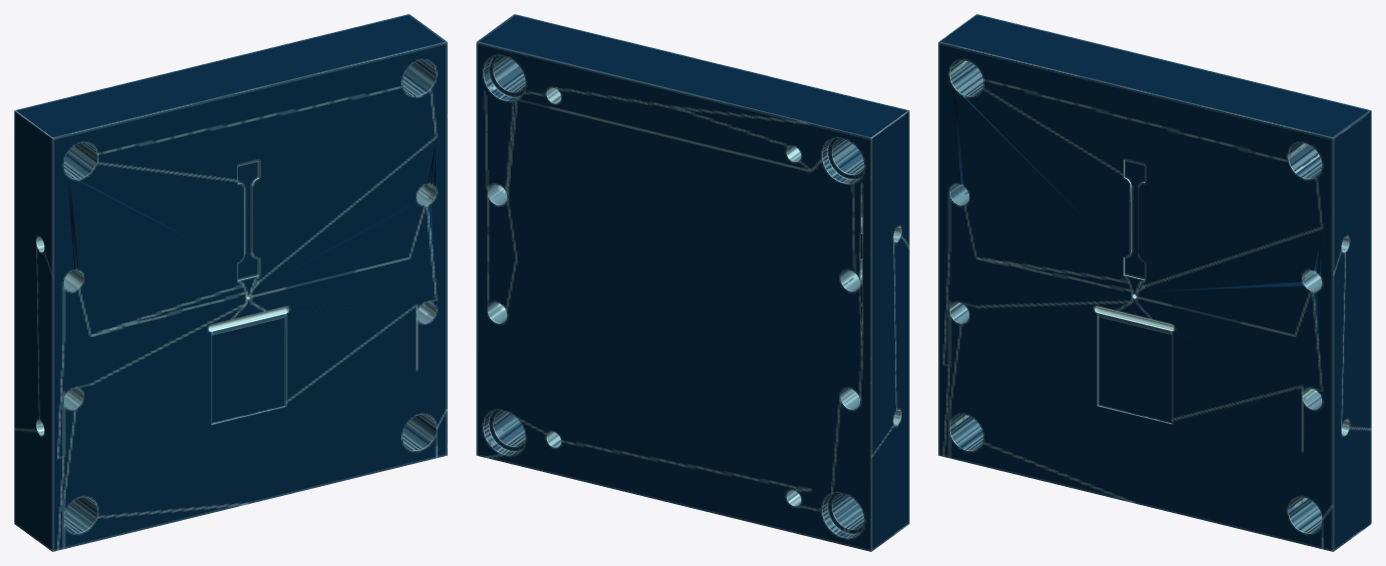
The model's file is Mold3-Core retainer plate-M.glb.
The picture shows the model from 3 angles, left to right: view 1: azimuth 30°, elevation 25°; view 2: azimuth 150°, elevation 25°; view 3: azimuth 330°, elevation 25°; orthographic projection.
Visible parts, largest first — view 1: Block porte empreinte inférieur; view 2: Block porte empreinte inférieur; view 3: Block porte empreinte inférieur.
Boxes of the visible parts, x1=… form: Block porte empreinte inférieur: x1=14, y1=14, x2=447, y2=551; Block porte empreinte inférieur: x1=476, y1=14, x2=909, y2=551; Block porte empreinte inférieur: x1=938, y1=14, x2=1371, y2=551.
Bounding box in the file's own units: 11.58 × 11.58 × 1.94.
Materials: 1 (1 with a texture image).
